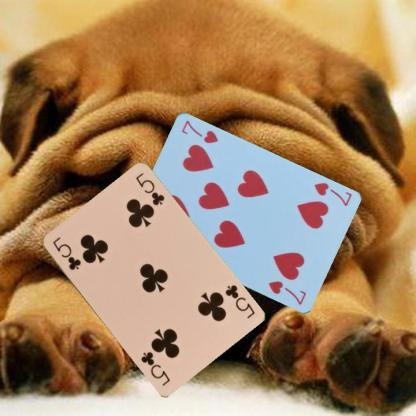5c: (222, 282, 256, 320), (50, 234, 82, 272)
7h: (311, 180, 352, 207)
